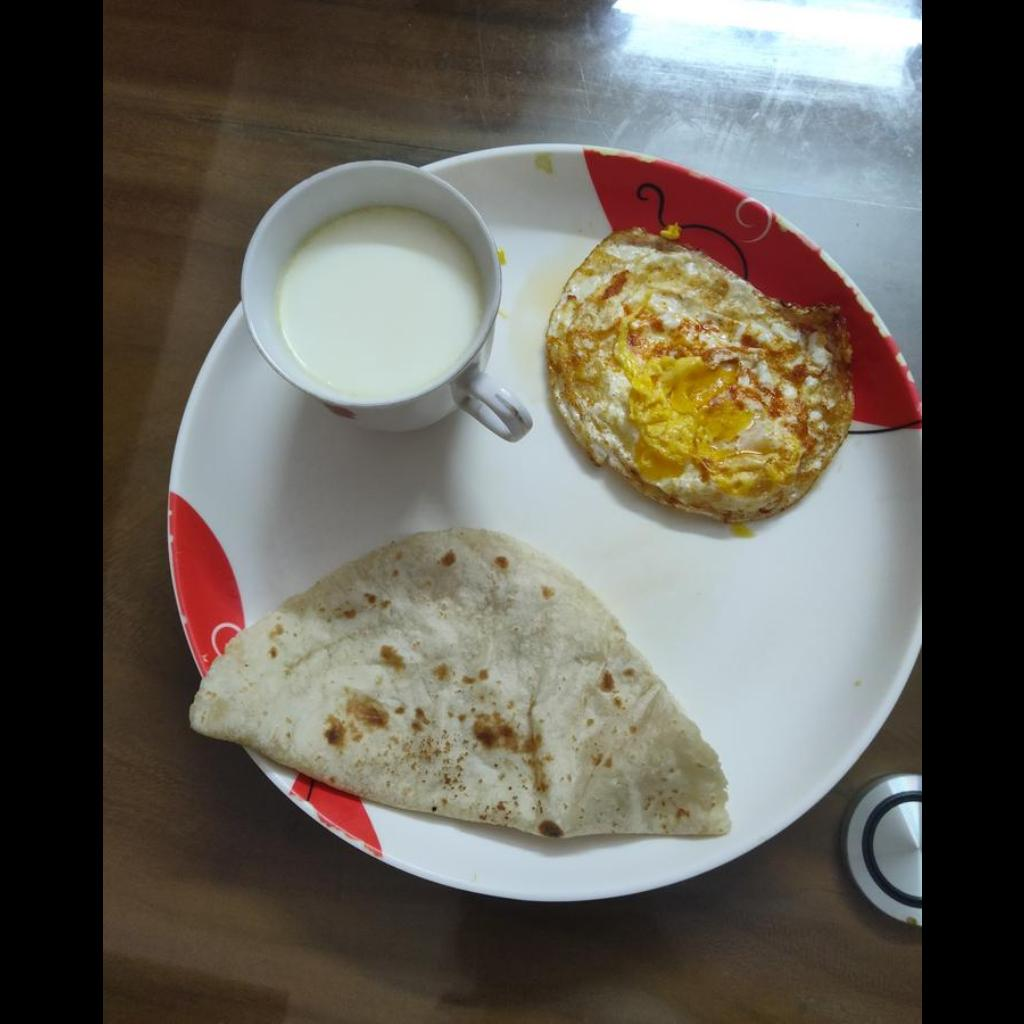egg-poached: (543, 229, 851, 523)
milk: (280, 212, 484, 396)
ruti: (185, 530, 733, 840)
